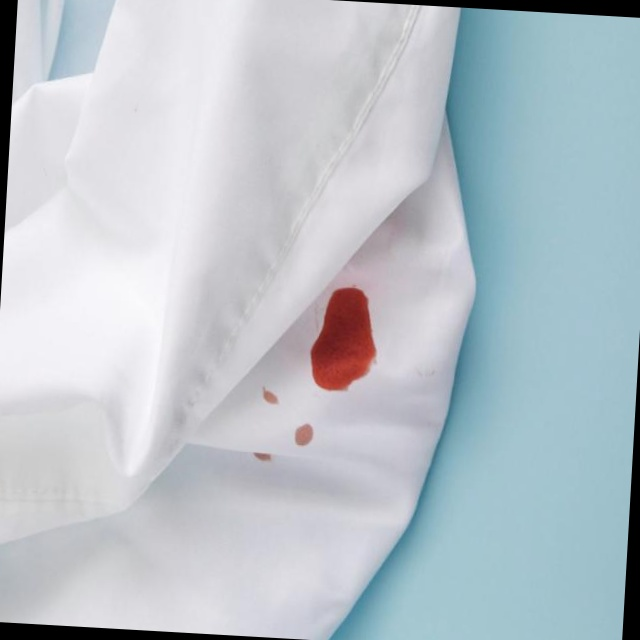blood: (301, 278, 385, 392), (248, 383, 321, 469)
